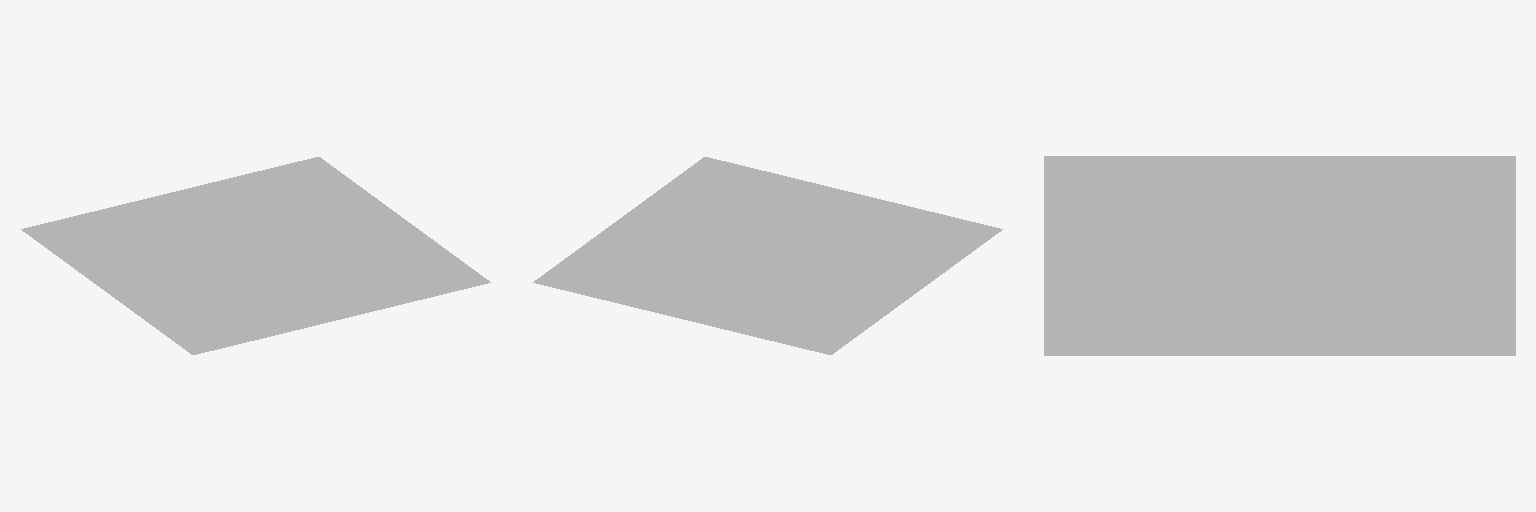
The robot description file, URDF, robot "cube.urdf":
<?xml version="0.0" ?>
<robot name="cube.urdf">
  <link name="planeLink">
  <contact>
      <lateral_friction value="1.5"/>
  </contact>
    <inertial>
      <origin rpy="0 0 0" xyz="0 0 0"/>
       <mass value=".0"/>
       <inertia ixx="0" ixy="0" ixz="0" iyy="0" iyz="0" izz="0"/>
    </inertial>
    <visual>
      <origin rpy="0 0 0" xyz="0 0 0"/>
      <geometry>
				<mesh filename="plane.obj" scale="2 2 1"/>
      </geometry>
       <material name="grey">
        <color rgba="0.8 0.8 0.8 1"/>
      </material>
    </visual>
    <collision>
      <origin rpy="0 0 0" xyz="0 0 -5"/>
      <geometry>
	 	    <box size="2 2 10"/>
      </geometry>
    </collision>
  </link>
</robot>

--- Render facts (derived) ---
The picture shows the robot from 3 angles, left to right: view 1: azimuth 30°, elevation 25°; view 2: azimuth 150°, elevation 25°; view 3: azimuth 270°, elevation 25°; orthographic projection.
Model cube.urdf with 1 links and 0 joints (none), rooted at planeLink, posed every joint at zero.
Visible links, largest first — view 1: planeLink; view 2: planeLink; view 3: planeLink.
Boxes of the visible links, <box> form: planeLink: <box>21,157,490,354</box>; planeLink: <box>533,157,1002,354</box>; planeLink: <box>1044,156,1515,355</box>.
Bounding box of the posed robot: 2 × 2 × 0 m (x, y, z).
1 mesh visuals loaded from 1 distinct referenced files (1 OBJ).
